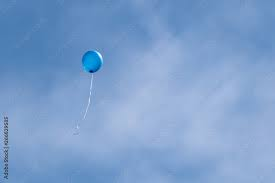Balloon: (81, 50, 103, 75)
